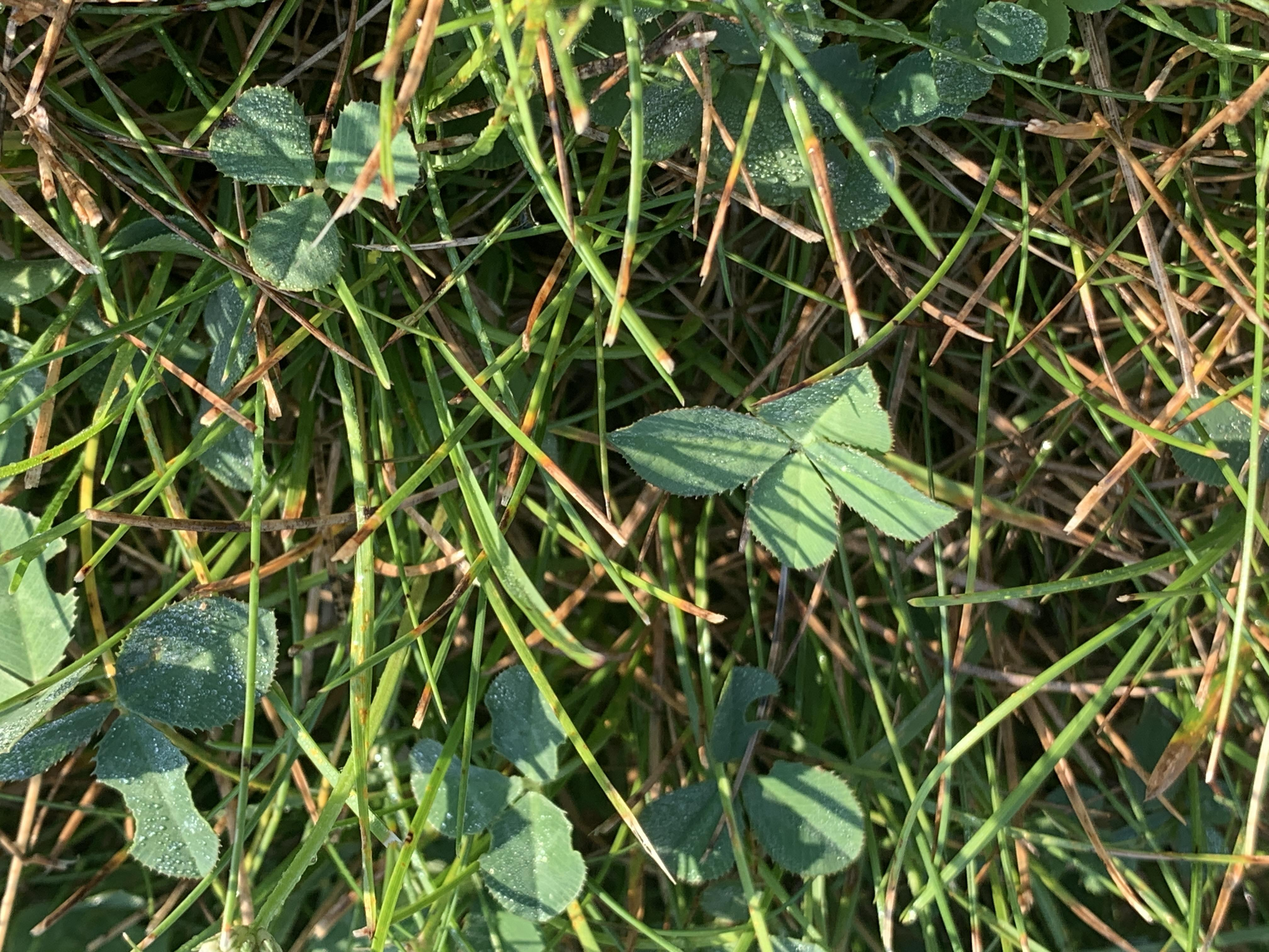4-Leaf-Clovers: (310, 385, 651, 581)
